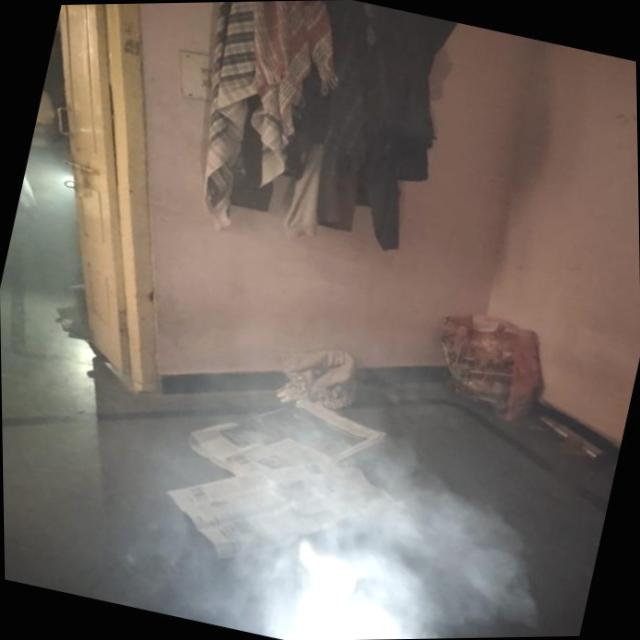smoke: (236, 443, 499, 640)
